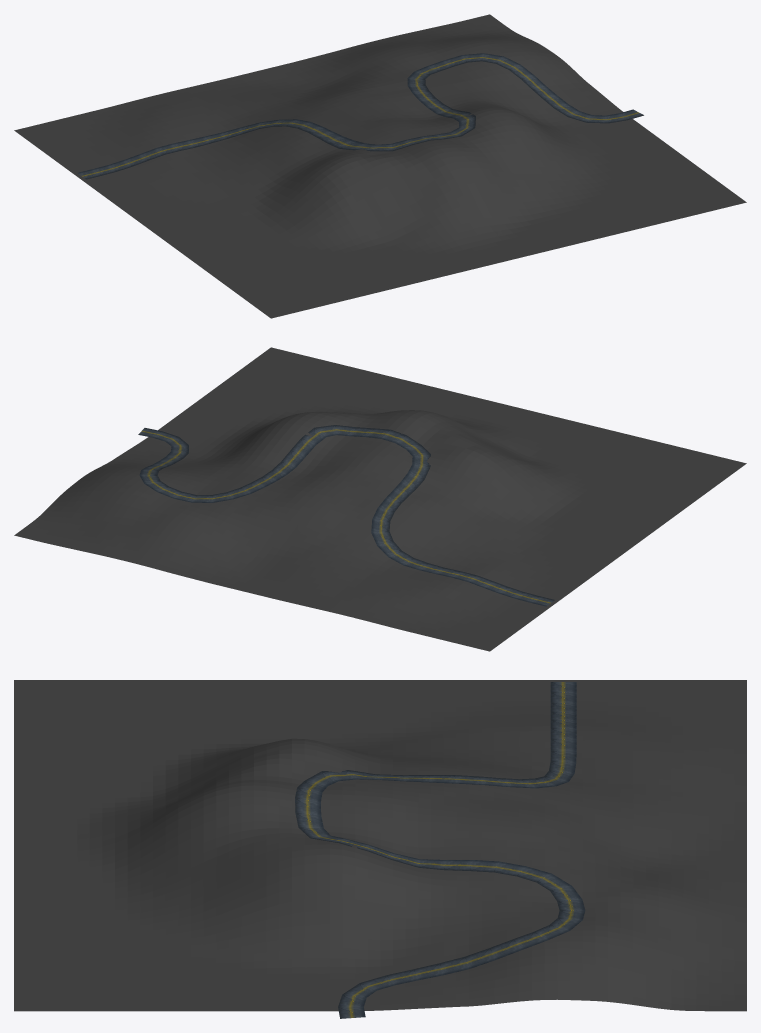
File: CD MAP Mauntain.glb
3 renders of one model, top to bottom at view 1: azimuth 30°, elevation 25°; view 2: azimuth 150°, elevation 25°; view 3: azimuth 270°, elevation 25°, orthographic. The views are drawn at different scales.
Parts seen in each view (by area): view 1: r; view 2: r; view 3: r.
Part boxes in pixels (x1,y1,x2,y2): r: (14,14,746,318); r: (14,347,746,651); r: (14,680,746,1018).
Size of the model in its own units: 13.13 by 1.19 by 11.98.
Materials: 2 (1 with a texture image).
